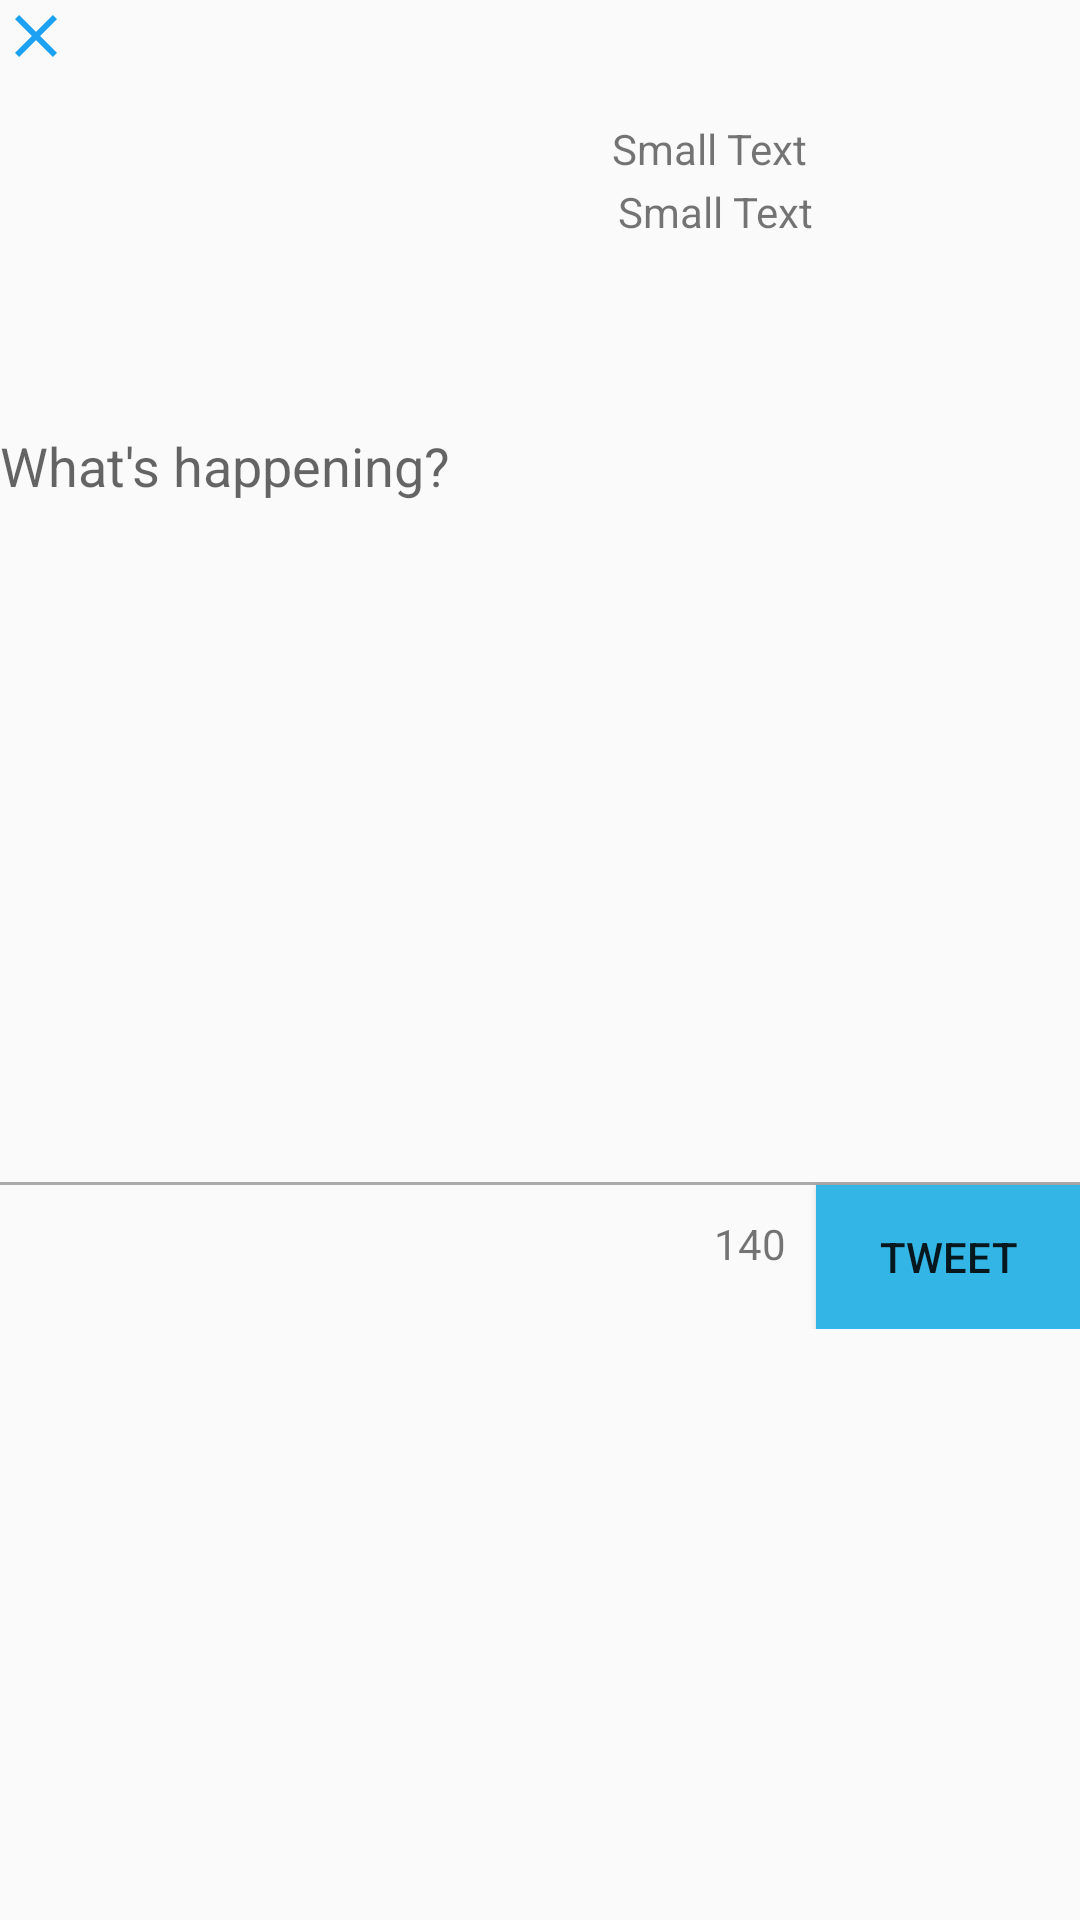

Locate icon controls on the screen. Image size 1080px x 1920px, boxes as (x1, y1, x2, y2).
cancel: (15, 15, 57, 57)
